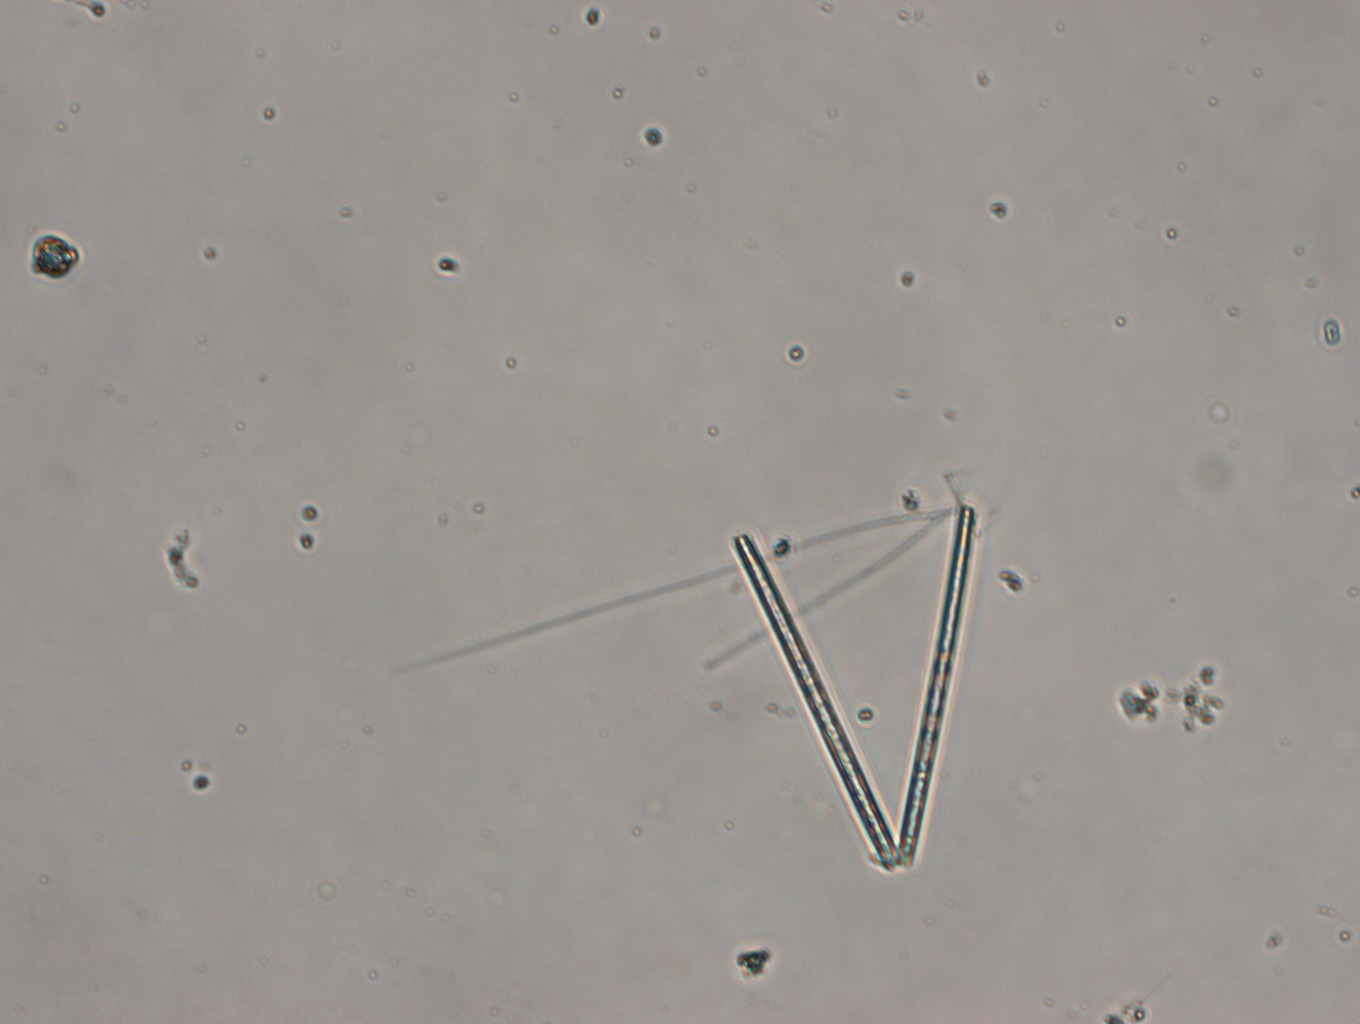thalassionema frauenfeldii: (733, 493, 980, 871)
